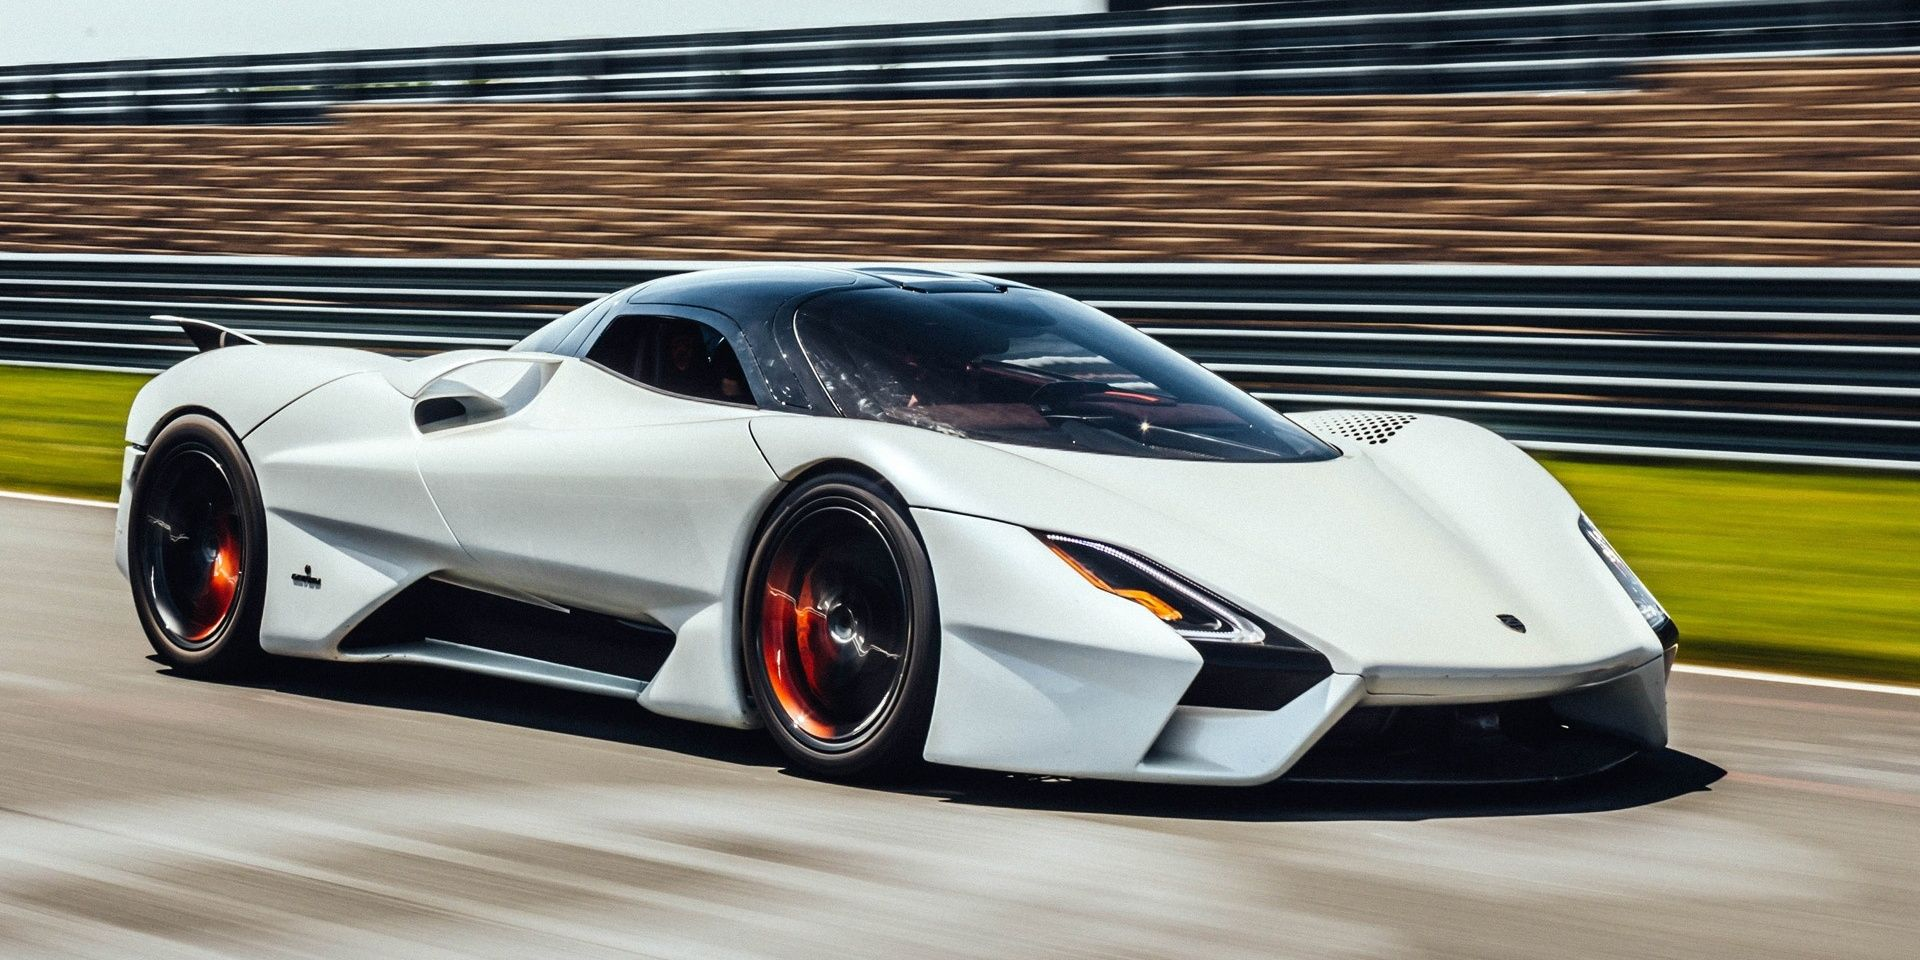headlight: (1021, 478, 1305, 666), (1558, 482, 1693, 643)
wheel: (711, 452, 951, 779), (122, 400, 271, 682)
